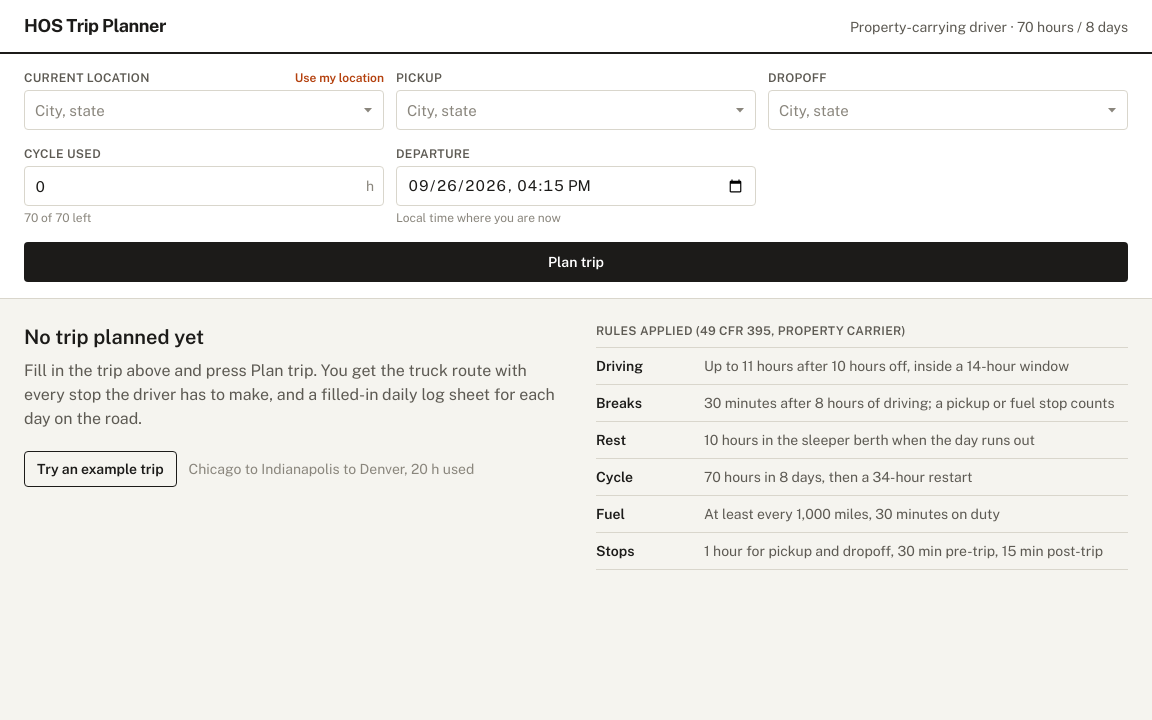
the example trip fills the form and sends a snake_case request
Step 1. Click the button "Try an example trip" → (100, 469), box left=24, top=451, right=177, bottom=487
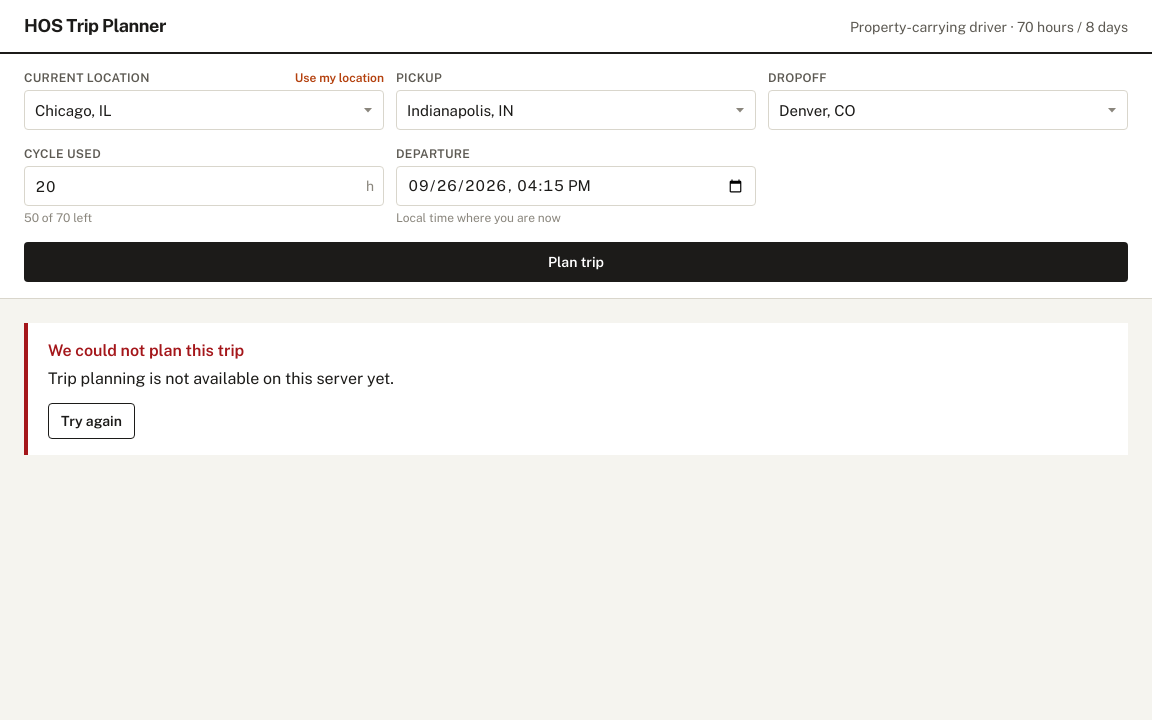
Now the dropdown labelled "Pickup" holds "Indianapolis, IN", box left=396, top=90, right=756, bottom=130
